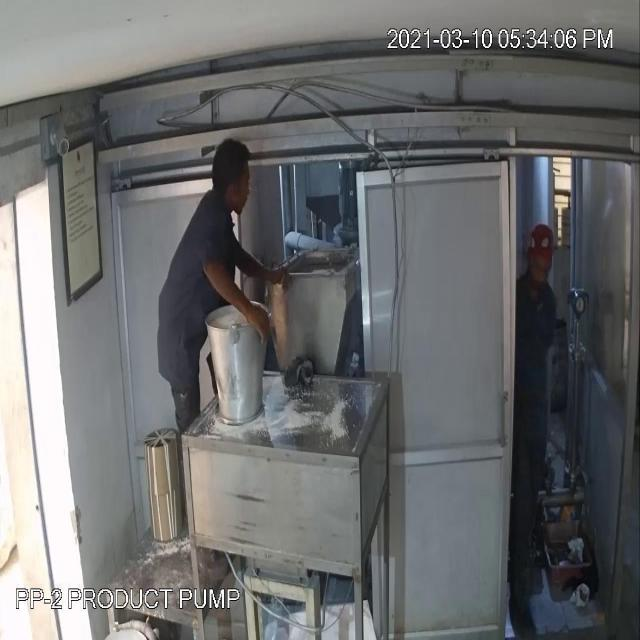No_Gloves: (194, 241, 278, 354)
